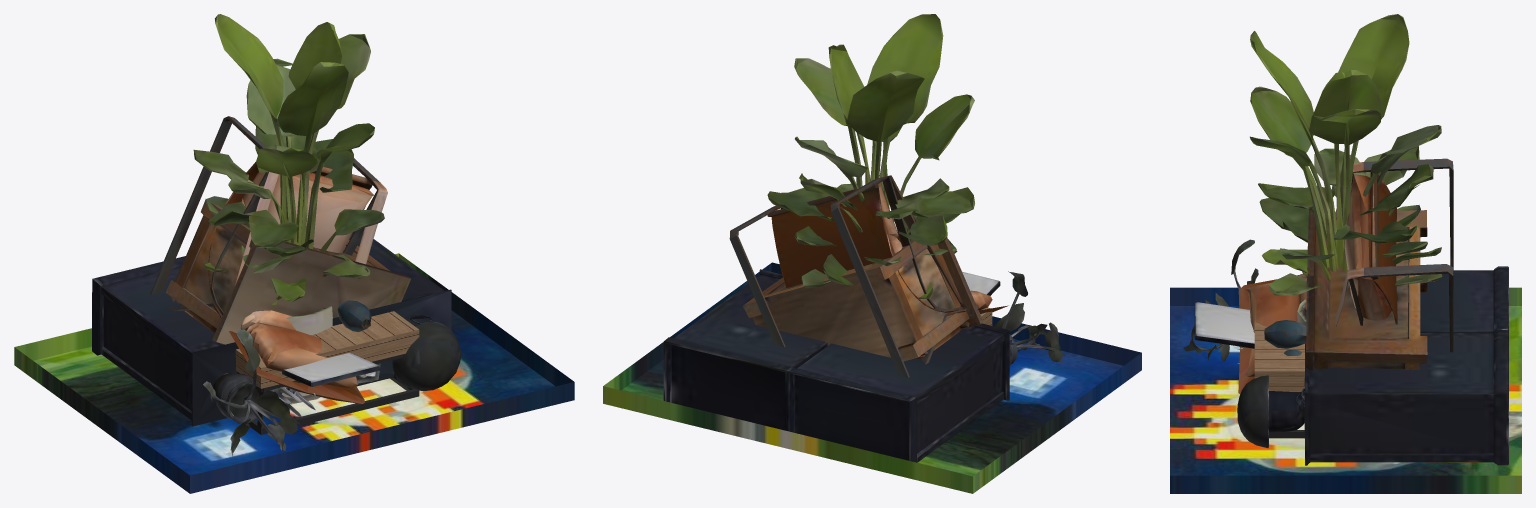
The model's file is loft_furniture.glb.
The picture shows the model from 3 angles, left to right: view 1: azimuth 30°, elevation 25°; view 2: azimuth 150°, elevation 25°; view 3: azimuth 270°, elevation 25°; orthographic projection. The views are drawn at different scales.
Parts seen in each view (by area): view 1: coffee, sofa, plant, console, chair, lamp; view 2: sofa, coffee, plant, console, chair; view 3: sofa, plant, coffee, console, chair, lamp.
Part boxes in pixels (x1,y1,x2,y2): coffee: (14, 253, 574, 493); sofa: (92, 231, 461, 457); plant: (193, 14, 384, 403); console: (166, 199, 410, 344); chair: (150, 116, 387, 403); lamp: (235, 311, 419, 434); sofa: (663, 269, 1065, 462); coffee: (603, 262, 1141, 493); plant: (767, 14, 974, 299); console: (743, 229, 983, 361); chair: (729, 175, 1008, 377); sofa: (1183, 239, 1508, 465); plant: (1250, 14, 1442, 325); coffee: (1170, 287, 1521, 493); console: (1264, 209, 1427, 370); chair: (1238, 158, 1453, 393); lamp: (1254, 321, 1304, 438).
Size of the model in its own units: 3.85 by 3.45 by 3.05.
Materials: 7 (6 with a texture image).
